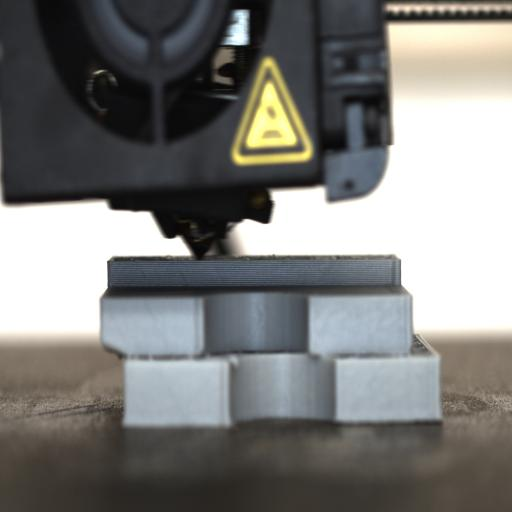layer_shift: (102, 344, 444, 368)
